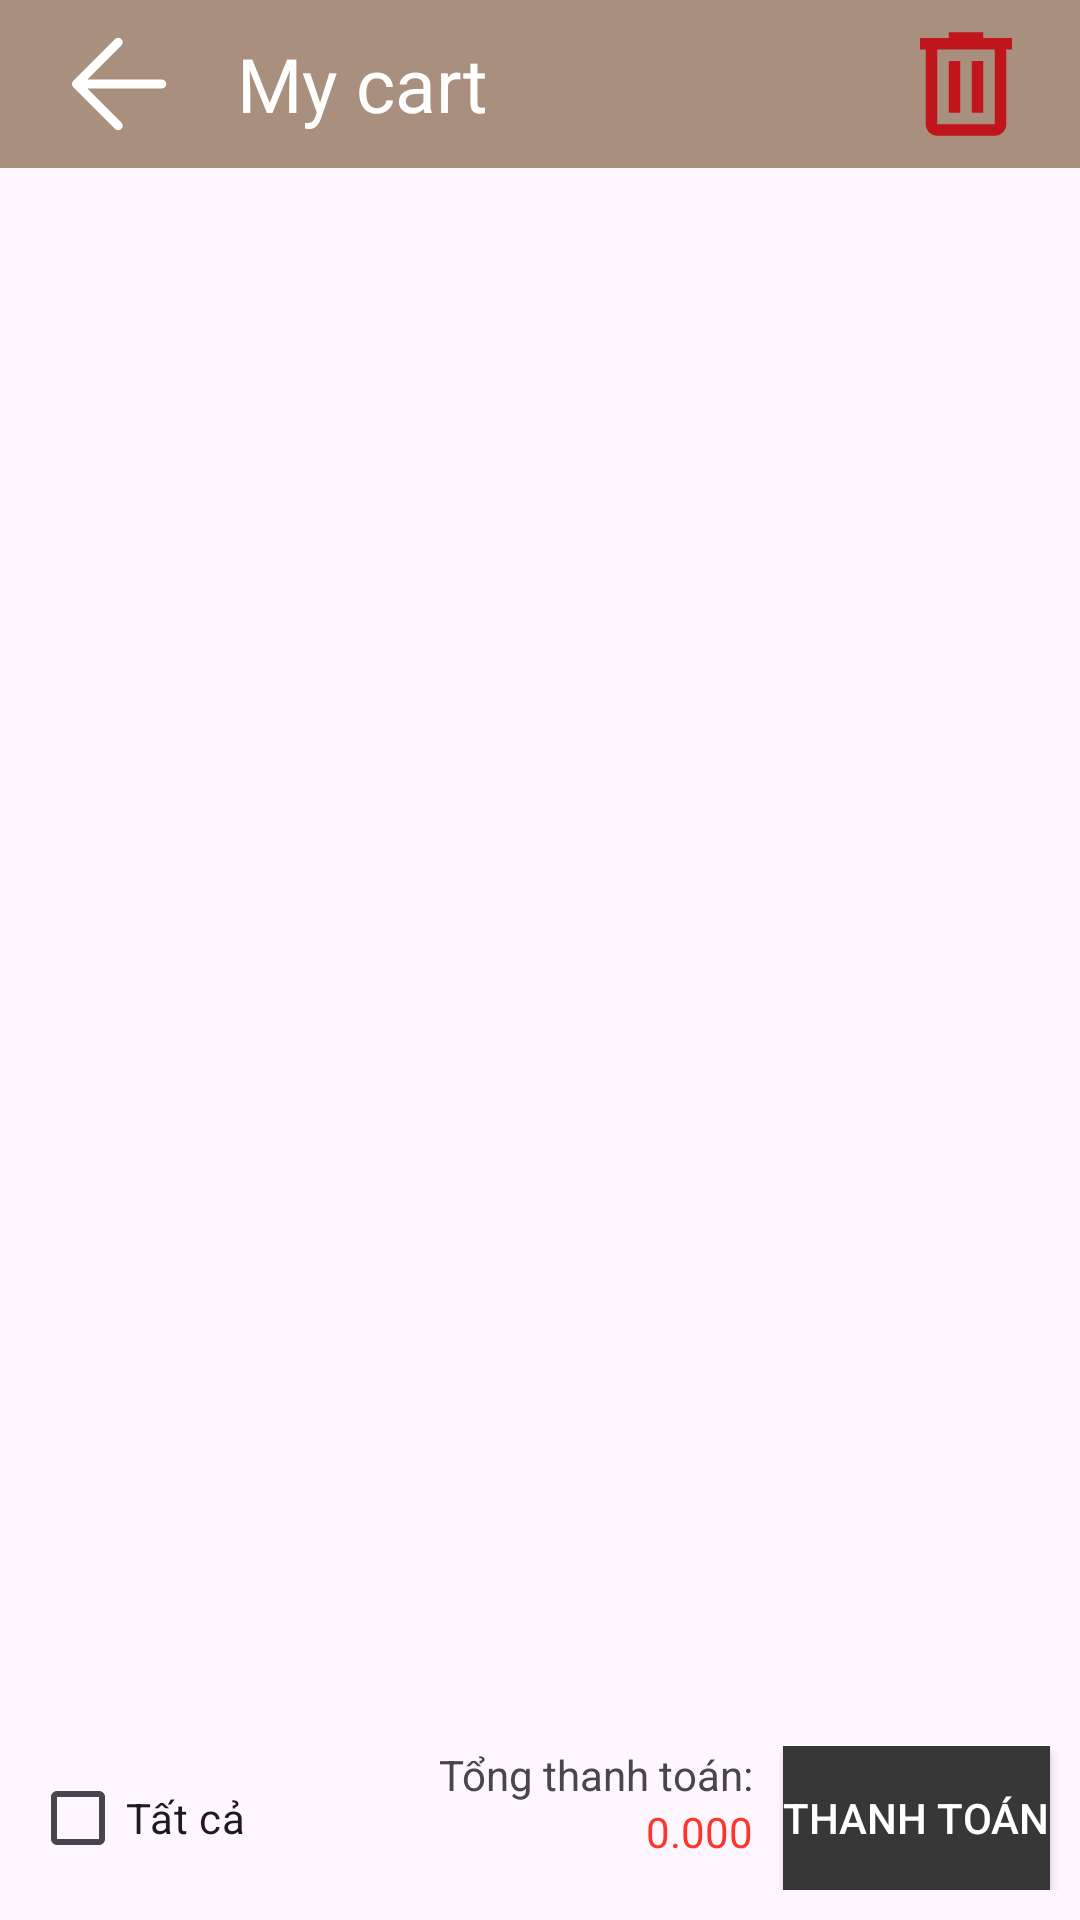

Screen size 1080 × 1920. Icon name, then its center in pixels as (x,y):
arrow back: (119,84)
delete: (966,84)
